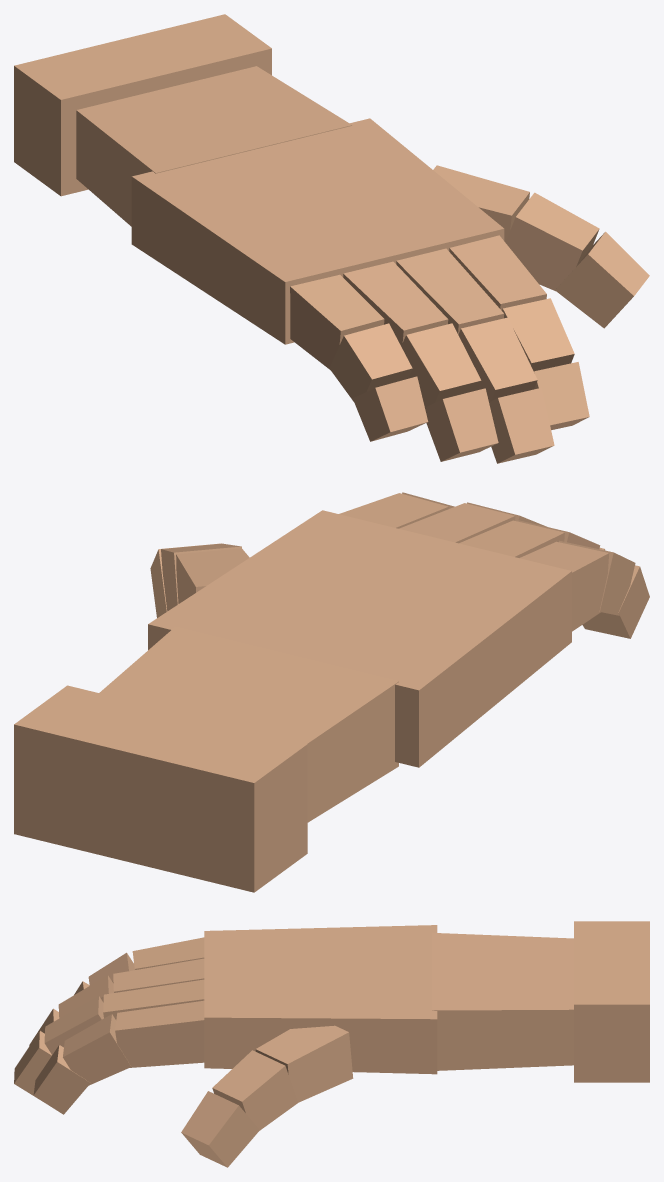
Rendered from FloatingHand.obj.
3 views of the same model, one above another, from view 1: azimuth 30°, elevation 25°; view 2: azimuth 150°, elevation 25°; view 3: azimuth 270°, elevation 25° (orthographic). The views are drawn at different scales.
Parts seen in each view (by area): view 1: Palm, Wrist, Cuff, Thumb, Finger3, Finger2, Finger1, Finger0; view 2: Palm, Cuff, Wrist, Finger3, Thumb, Finger1, Finger2, Finger0; view 3: Palm, Wrist, Cuff, Thumb, Finger0, Finger1, Finger2, Finger3.
Boxes of the visible parts, <box> form: Palm: <box>131,118,504,344</box>; Wrist: <box>76,66,352,226</box>; Cuff: <box>14,14,271,196</box>; Thumb: <box>433,165,649,328</box>; Finger3: <box>290,274,428,441</box>; Finger2: <box>343,261,498,461</box>; Finger1: <box>396,248,554,463</box>; Finger0: <box>449,235,589,429</box>; Palm: <box>148,510,571,767</box>; Cuff: <box>14,685,307,892</box>; Wrist: <box>99,627,398,822</box>; Finger3: <box>519,540,649,638</box>; Thumb: <box>150,543,249,617</box>; Finger1: <box>399,502,546,543</box>; Finger2: <box>459,519,605,557</box>; Finger0: <box>339,492,454,528</box>; Palm: <box>204,925,437,1074</box>; Wrist: <box>432,932,573,1070</box>; Cuff: <box>574,921,649,1082</box>; Thumb: <box>181,1025,353,1167</box>; Finger0: <box>33,1000,204,1114</box>; Finger1: <box>14,979,204,1098</box>; Finger2: <box>29,958,204,1045</box>; Finger3: <box>74,937,204,994</box>.
Size of the model in its own units: 0.1393 by 0.0534 by 0.2511.
